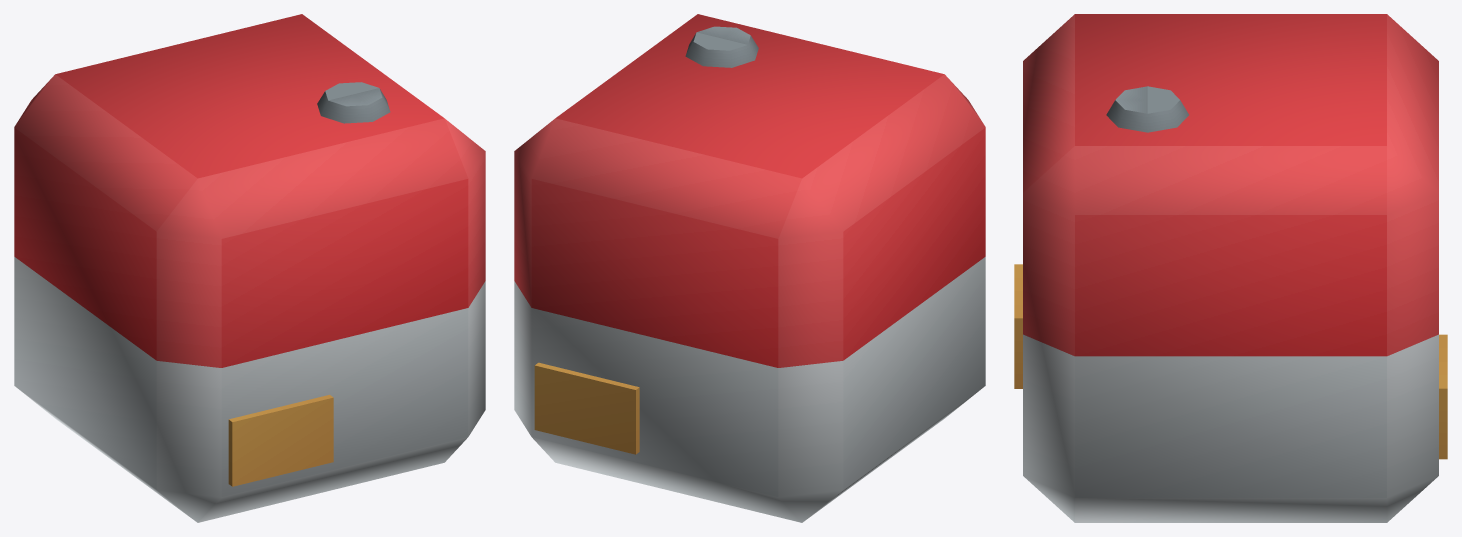
The model's file is kk_cargo_a.glb.
The picture shows the model from 3 angles, left to right: view 1: azimuth 30°, elevation 25°; view 2: azimuth 150°, elevation 25°; view 3: azimuth 270°, elevation 25°; orthographic projection. The views are drawn at different scales.
Visible parts, largest first — view 1: cargo_A; view 2: cargo_A; view 3: cargo_A.
Boxes of the visible parts, x1,y1,x2,y2 form: cargo_A: (14,14,485,522); cargo_A: (514,14,985,522); cargo_A: (1014,14,1447,522).
Bounding box in the file's own units: 1.15 × 1.2 × 1.2.
Materials: 1 (1 with a texture image).
